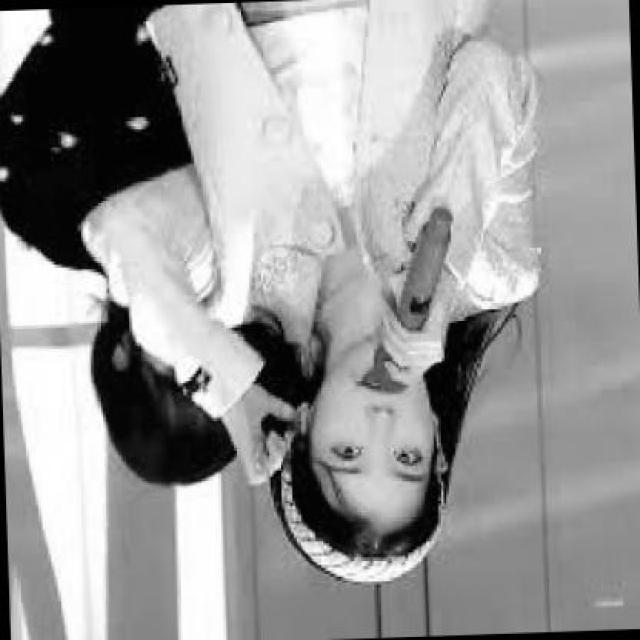earphone: (283, 391, 319, 440)
